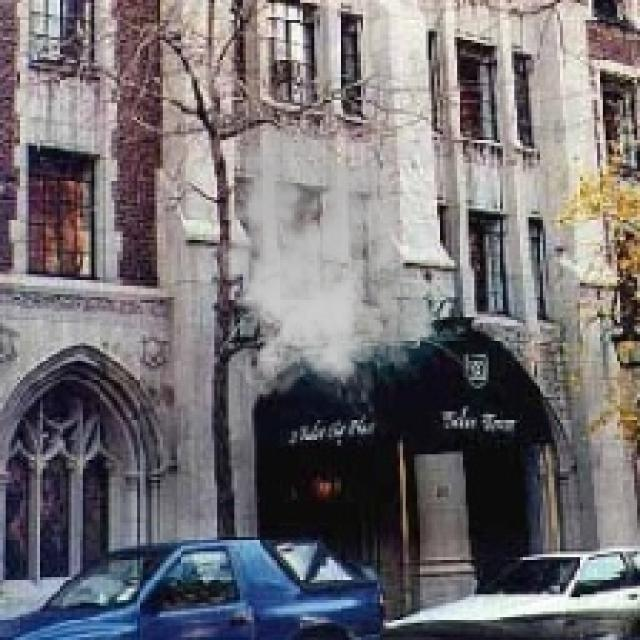Smoke: (197, 123, 434, 403)
